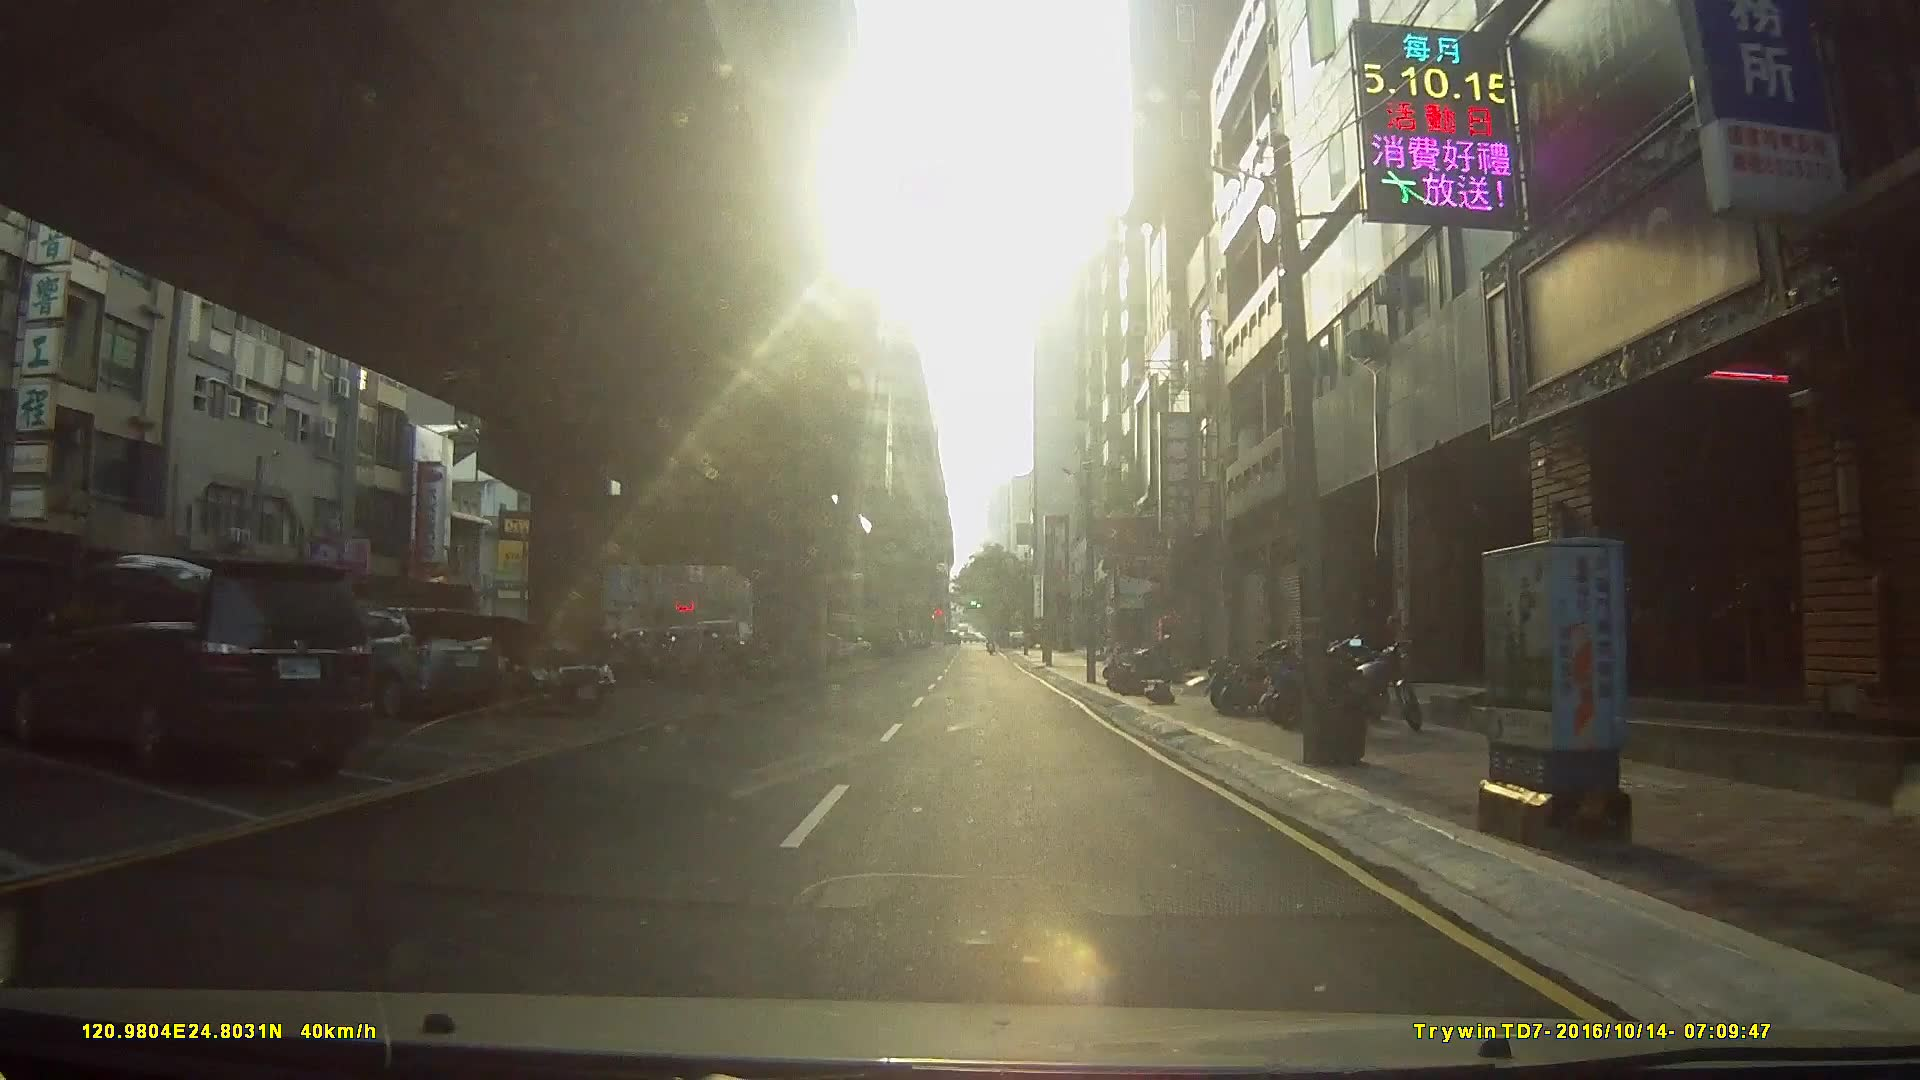vehicle: (0, 549, 375, 779), (299, 607, 501, 717), (393, 617, 615, 713)
